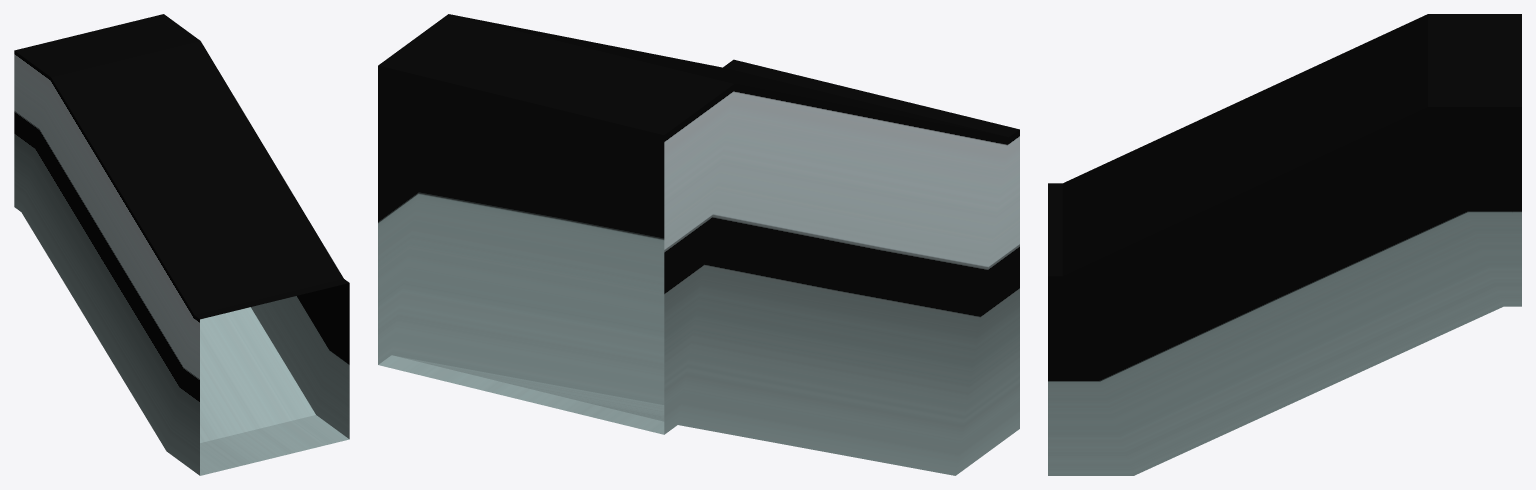
Rendered from caveUpStairs 1.fbx.
3 views of the same model, side by side, from view 1: azimuth 30°, elevation 25°; view 2: azimuth 150°, elevation 25°; view 3: azimuth 270°, elevation 25° (orthographic). The views are drawn at different scales.
Visible parts, largest first — view 1: Cube.006; view 2: Cube.006; view 3: Cube.006.
Part boxes in pixels (x1,y1,x2,y2): Cube.006: (14,14,349,475); Cube.006: (378,14,1019,475); Cube.006: (1048,14,1521,475).
Size of the model in its own units: 200 by 370 by 430.
1 material, 1 textured.
